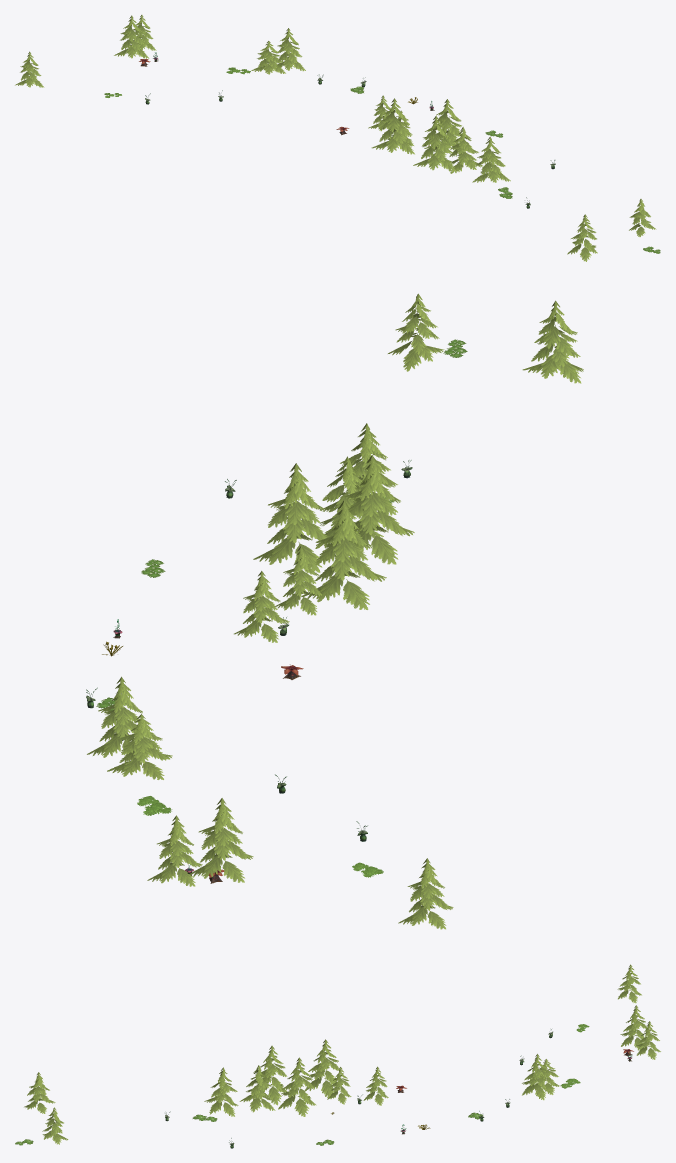
File: zhibei18_1.fbx
3 views of the same model, one above another, from view 1: azimuth 30°, elevation 25°; view 2: azimuth 150°, elevation 25°; view 3: azimuth 270°, elevation 25° (orthographic). The views are drawn at different scales.
Visible parts, largest first — view 1: zhibei18_1; view 2: zhibei18_1; view 3: zhibei18_1.
Boxes of the visible parts, x1,y1,x2,y2 form: zhibei18_1: [15, 15, 660, 261]; zhibei18_1: [86, 293, 583, 929]; zhibei18_1: [15, 964, 660, 1148].
Size of the model in its own units: 4741 by 828 by 8309.
